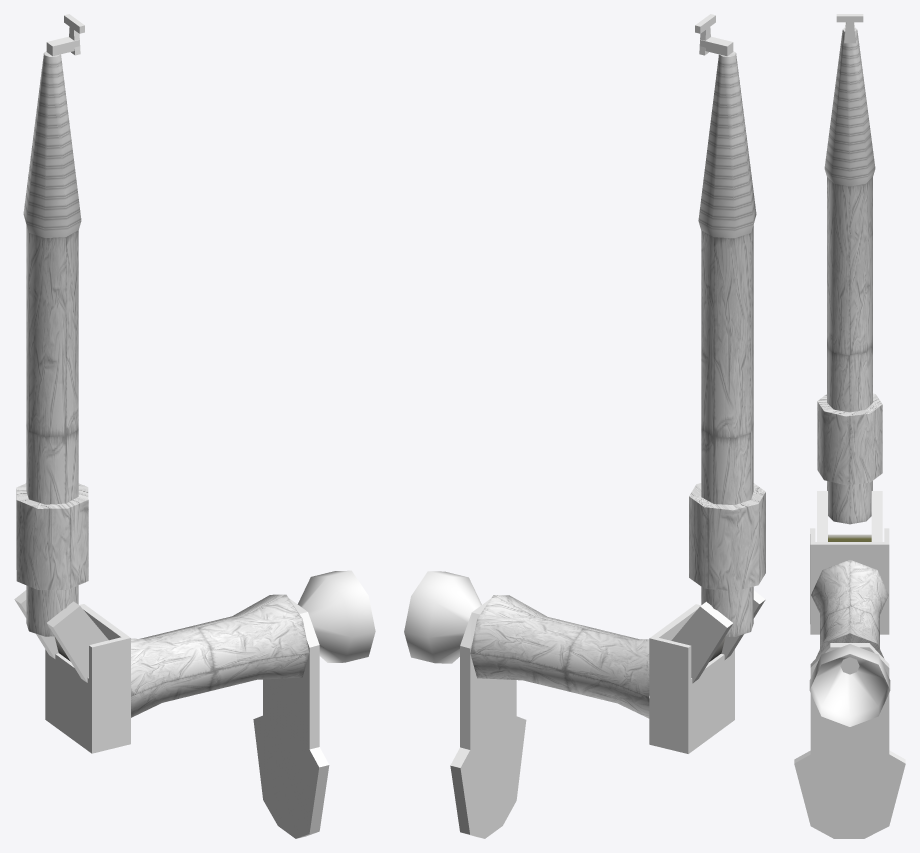
Rendered from Strella.FBX.
3 renders of one model, left to right at view 1: azimuth 30°, elevation 25°; view 2: azimuth 150°, elevation 25°; view 3: azimuth 270°, elevation 25°, orthographic. The views are drawn at different scales.
Visible parts, largest first — view 1: strella; view 2: strella; view 3: strella.
Boxes of the visible parts, x1,y1,x2,y2 form: strella: [14, 14, 375, 838]; strella: [404, 14, 765, 838]; strella: [794, 14, 905, 838].
Bounding box in the file's own units: 1.4 × 3.47 × 0.4793.
3 materials, 2 textured.
